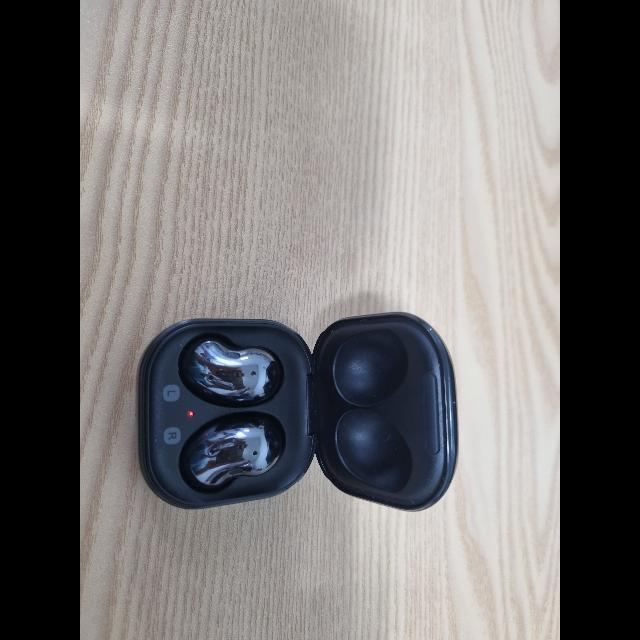buds_live: (134, 308, 462, 516)
